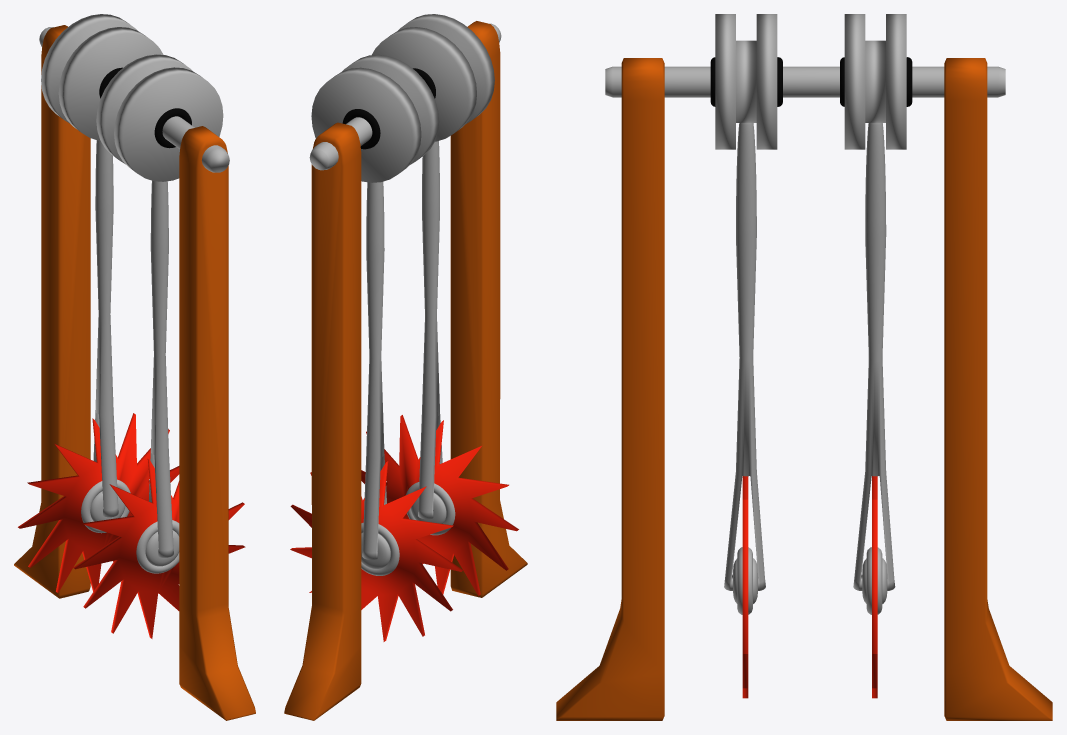
File: Obstacle9.fbx
The picture shows the model from 3 angles, left to right: view 1: azimuth 30°, elevation 25°; view 2: azimuth 150°, elevation 25°; view 3: azimuth 270°, elevation 25°; orthographic projection. The views are drawn at different scales.
Visible parts, largest first — view 1: Cube.008, Cylinder.003, Saw.001, Saw.002, Cylinder.012, Cylinder.006, Cylinder.013, Cylinder.011; view 2: Cube.008, Cylinder.012, Saw.002, Cylinder.003, Saw.001, Cylinder.013, Cylinder.006, Cylinder.011; view 3: Cube.008, Cylinder.013, Cylinder.006, Cylinder.012, Cylinder.003, Cylinder.011, Saw.002, Saw.001.
Part boxes in pixels (x1=…): Cube.008: x1=14, y1=25, x2=255, y2=720; Cylinder.003: x1=96, y1=54, x2=223, y2=181; Saw.001: x1=18, y1=413, x2=179, y2=592; Saw.002: x1=73, y1=459, x2=245, y2=638; Cylinder.012: x1=41, y1=14, x2=163, y2=140; Cylinder.006: x1=149, y1=180, x2=173, y2=557; Cylinder.013: x1=93, y1=140, x2=118, y2=517; Cylinder.011: x1=39, y1=27, x2=229, y2=172; Cube.008: x1=284, y1=21, x2=527, y2=720; Cylinder.012: x1=311, y1=54, x2=439, y2=182; Saw.002: x1=361, y1=415, x2=518, y2=595; Cylinder.003: x1=372, y1=14, x2=494, y2=141; Saw.001: x1=290, y1=461, x2=463, y2=641; Cylinder.013: x1=362, y1=182, x2=386, y2=559; Cylinder.006: x1=418, y1=141, x2=442, y2=519; Cylinder.011: x1=309, y1=23, x2=501, y2=170; Cube.008: x1=556, y1=58, x2=1052, y2=720; Cylinder.013: x1=853, y1=123, x2=895, y2=590; Cylinder.006: x1=724, y1=123, x2=765, y2=590; Cylinder.012: x1=840, y1=14, x2=912, y2=149; Cylinder.003: x1=710, y1=14, x2=782, y2=149; Cylinder.011: x1=605, y1=66, x2=1005, y2=97; Saw.002: x1=733, y1=476, x2=757, y2=698; Saw.001: x1=862, y1=476, x2=887, y2=698.
Size of the model in its own units: 291 by 966 by 628.
